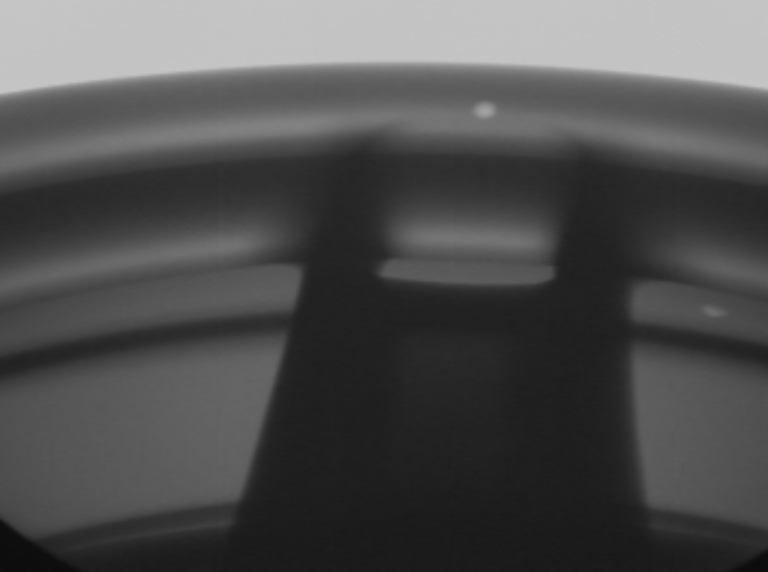defect: (462, 92, 507, 123)
